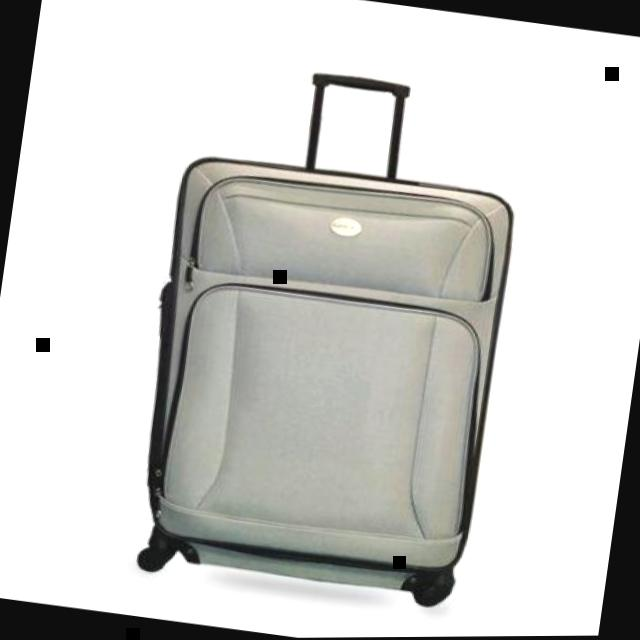luggage: (119, 140, 528, 614)
